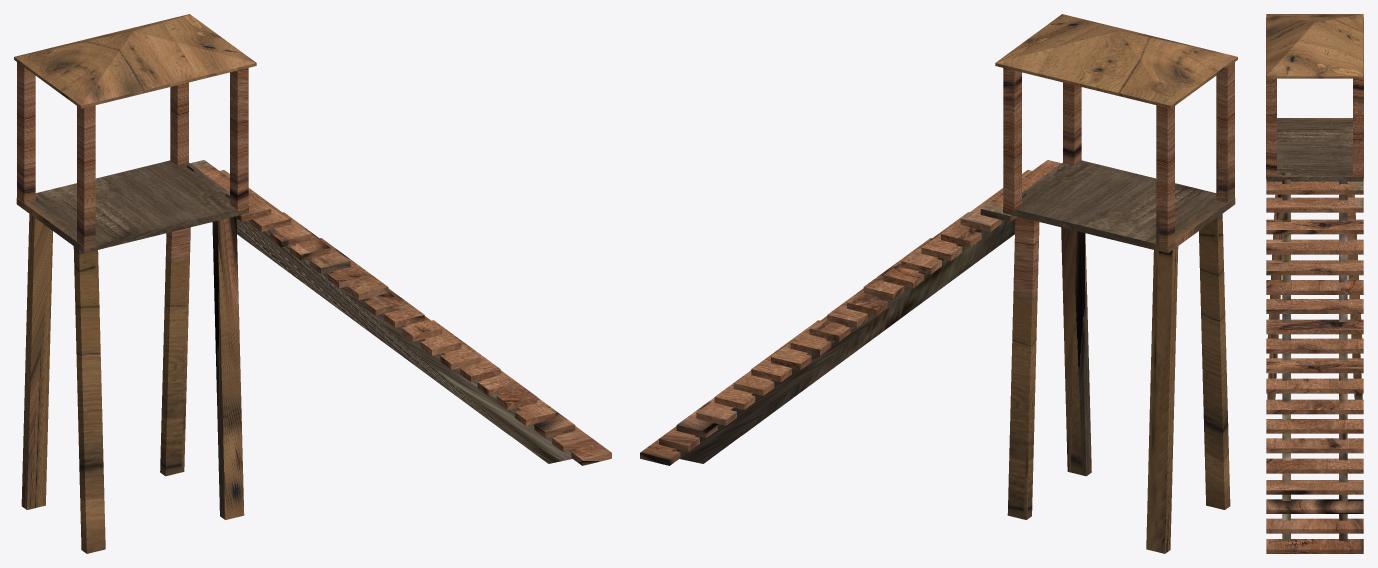
Rendered from Sniper_Tower.fbx.
The picture shows the model from 3 angles, left to right: view 1: azimuth 30°, elevation 25°; view 2: azimuth 150°, elevation 25°; view 3: azimuth 270°, elevation 25°; orthographic projection. The views are drawn at different scales.
Visible parts, largest first — view 1: Cube.003; view 2: Cube.003; view 3: Cube.003.
Boxes of the visible parts, bbox=[...] form: Cube.003: bbox=[14, 14, 611, 553]; Cube.003: bbox=[640, 14, 1237, 553]; Cube.003: bbox=[1266, 14, 1363, 553].
Size of the model in its own units: 915 by 847 by 201.
Materials: 1 (1 with a texture image).
